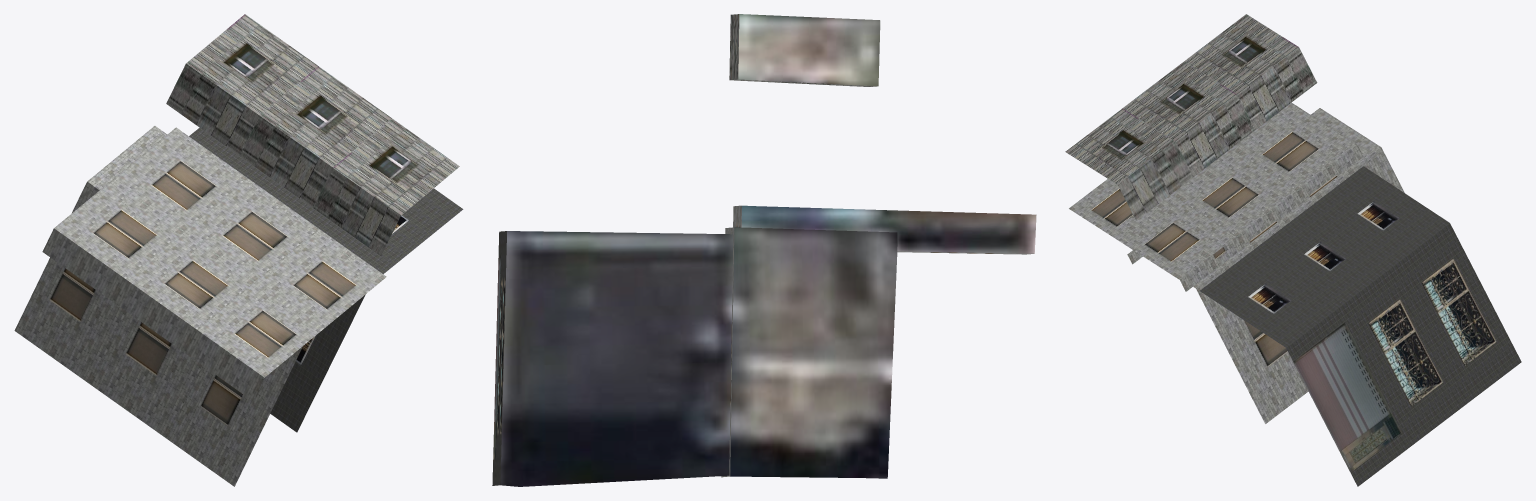
3 views of the same model, side by side, from view 1: azimuth 30°, elevation 25°; view 2: azimuth 150°, elevation 25°; view 3: azimuth 270°, elevation 25° (orthographic). The views are drawn at different scales.
Bounding box in the file's own units: 19.57 × 17.87 × 20.26.
13 materials, 13 textured.
